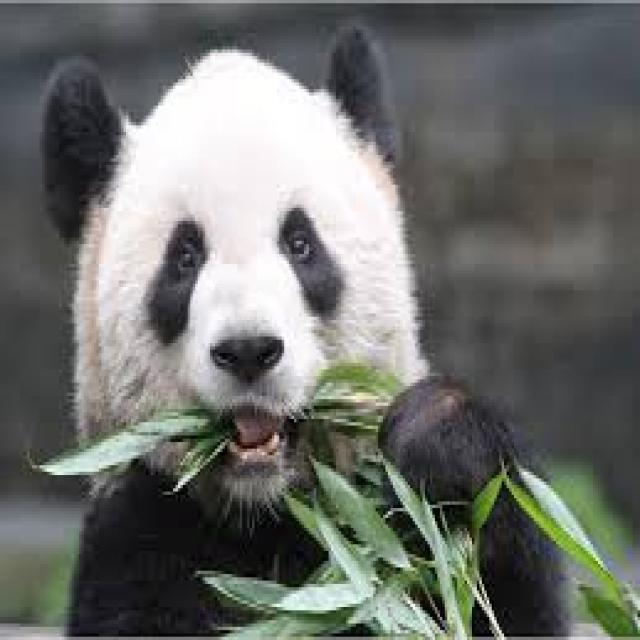Panda: (29, 26, 590, 640)
